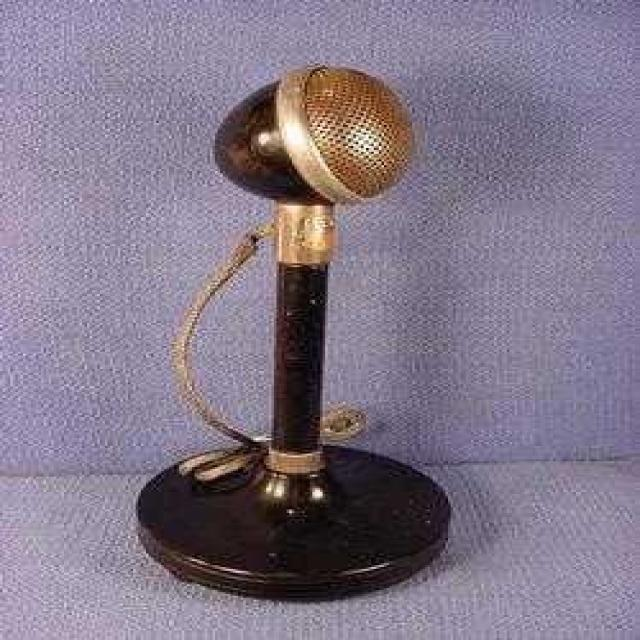microphone: (196, 63, 413, 516)
